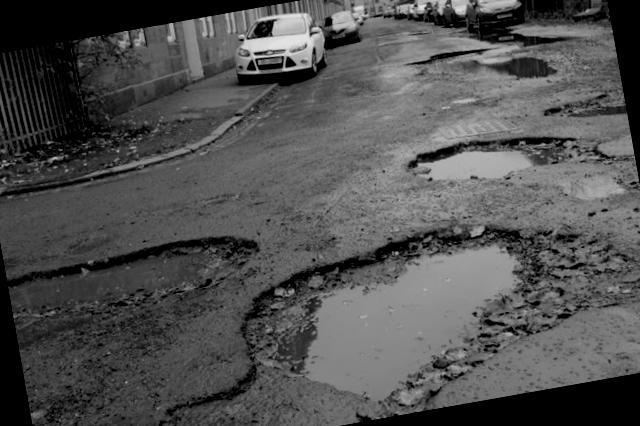Pothole: (226, 190, 640, 426), (2, 206, 280, 364), (396, 115, 628, 201), (422, 12, 567, 104)
